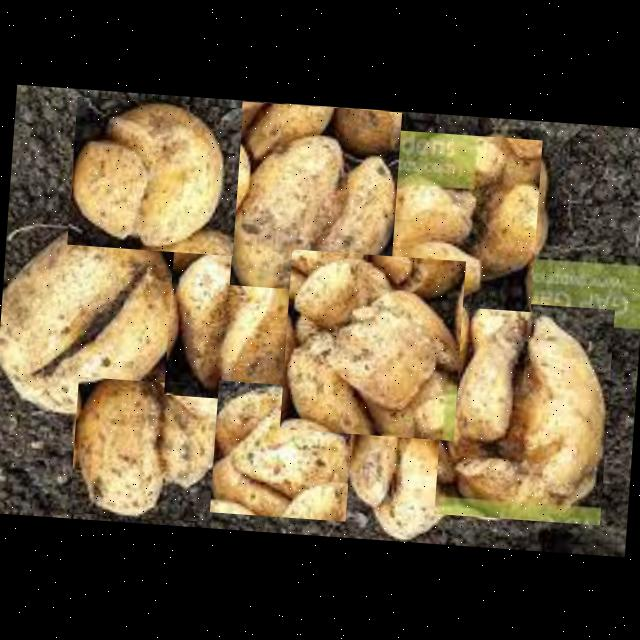Damaged potato: (432, 297, 614, 524), (0, 222, 181, 430), (278, 248, 464, 440), (228, 100, 401, 295), (386, 129, 542, 311), (65, 96, 242, 254), (68, 375, 219, 521), (162, 240, 298, 402), (208, 379, 354, 520), (330, 398, 462, 539), (376, 263, 384, 273)
